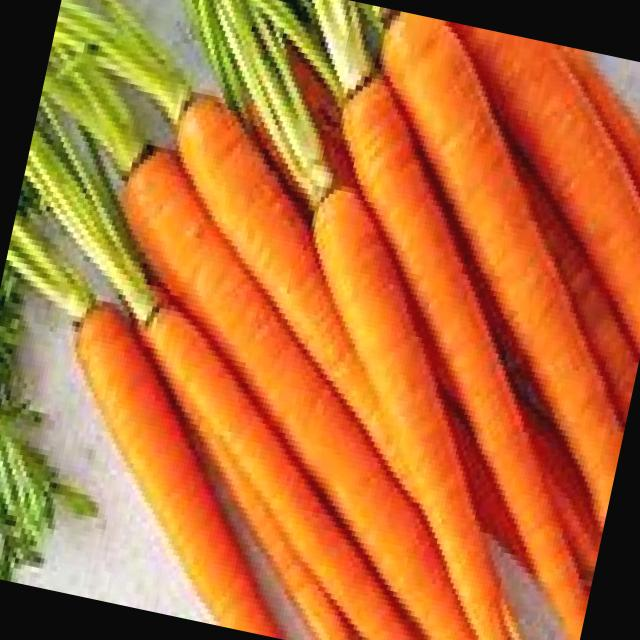carrot: (338, 72, 582, 637), (371, 13, 619, 517), (143, 293, 418, 640), (313, 182, 517, 640), (76, 301, 288, 640)
